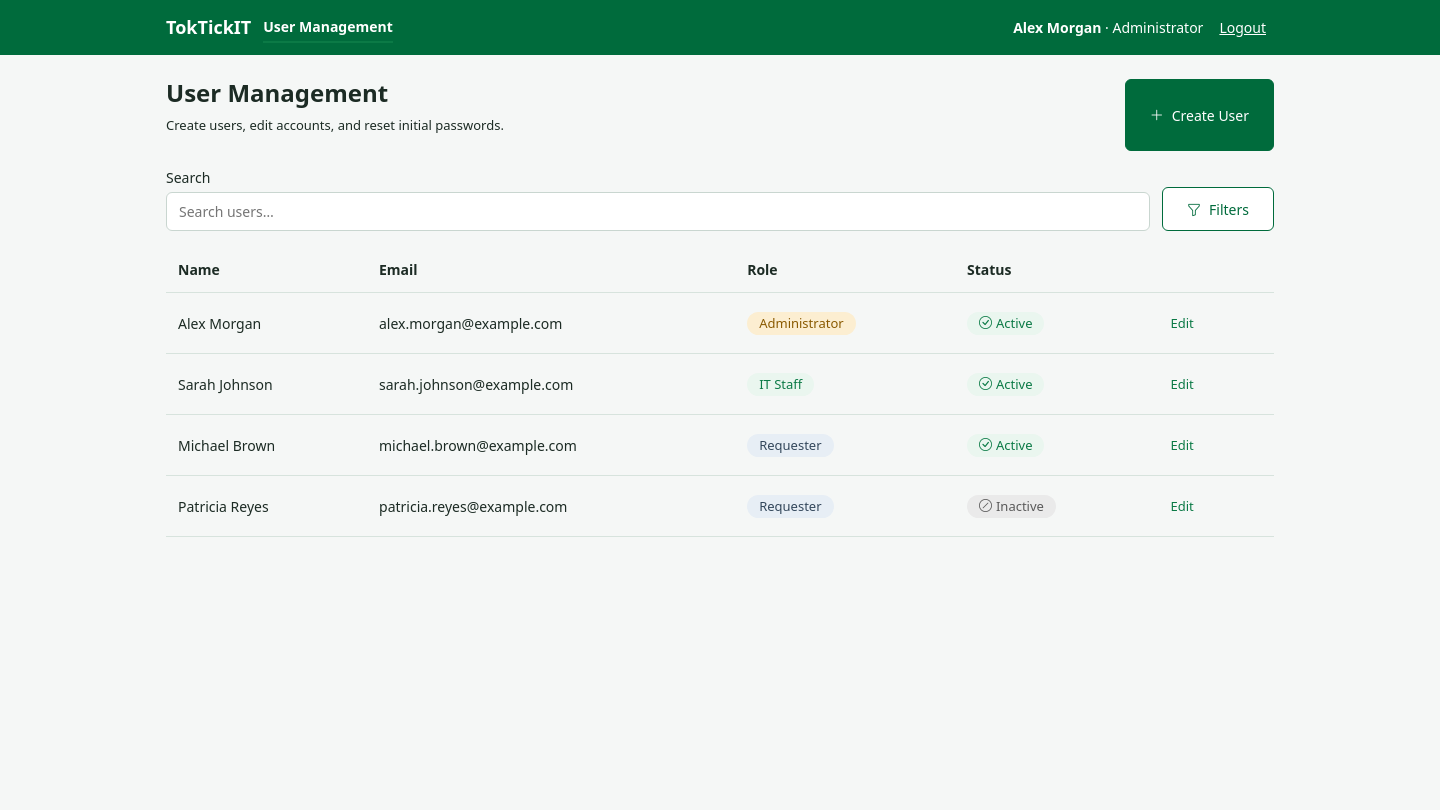
Test: search and role filter (AC-28, BR-38) › filters by role and shows a removable chip
Click the button "Filters" at (1218, 209), box [1162, 187, 1274, 231]
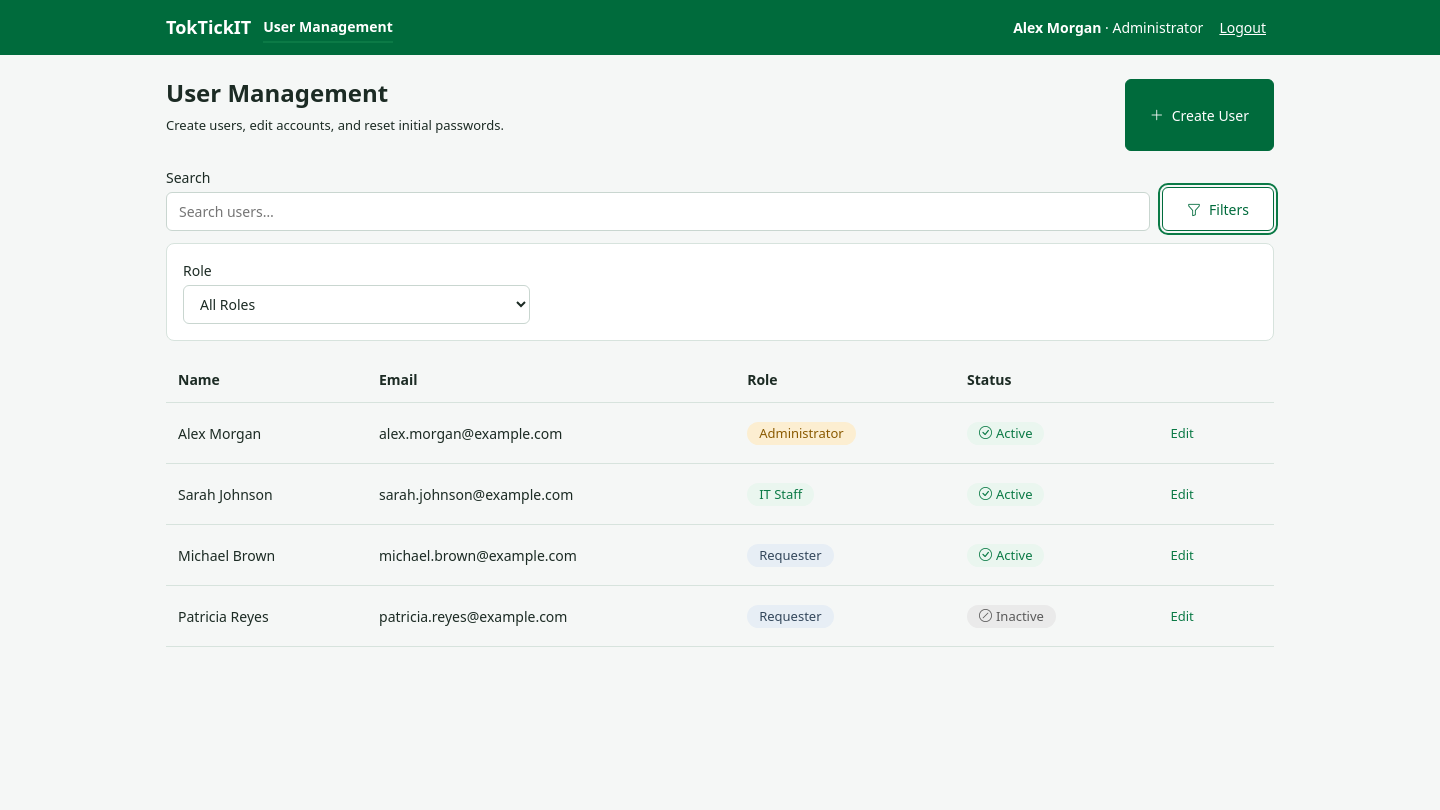
Select "Requester" in the dropdown labelled "Role" at (357, 305), box [183, 285, 530, 324]
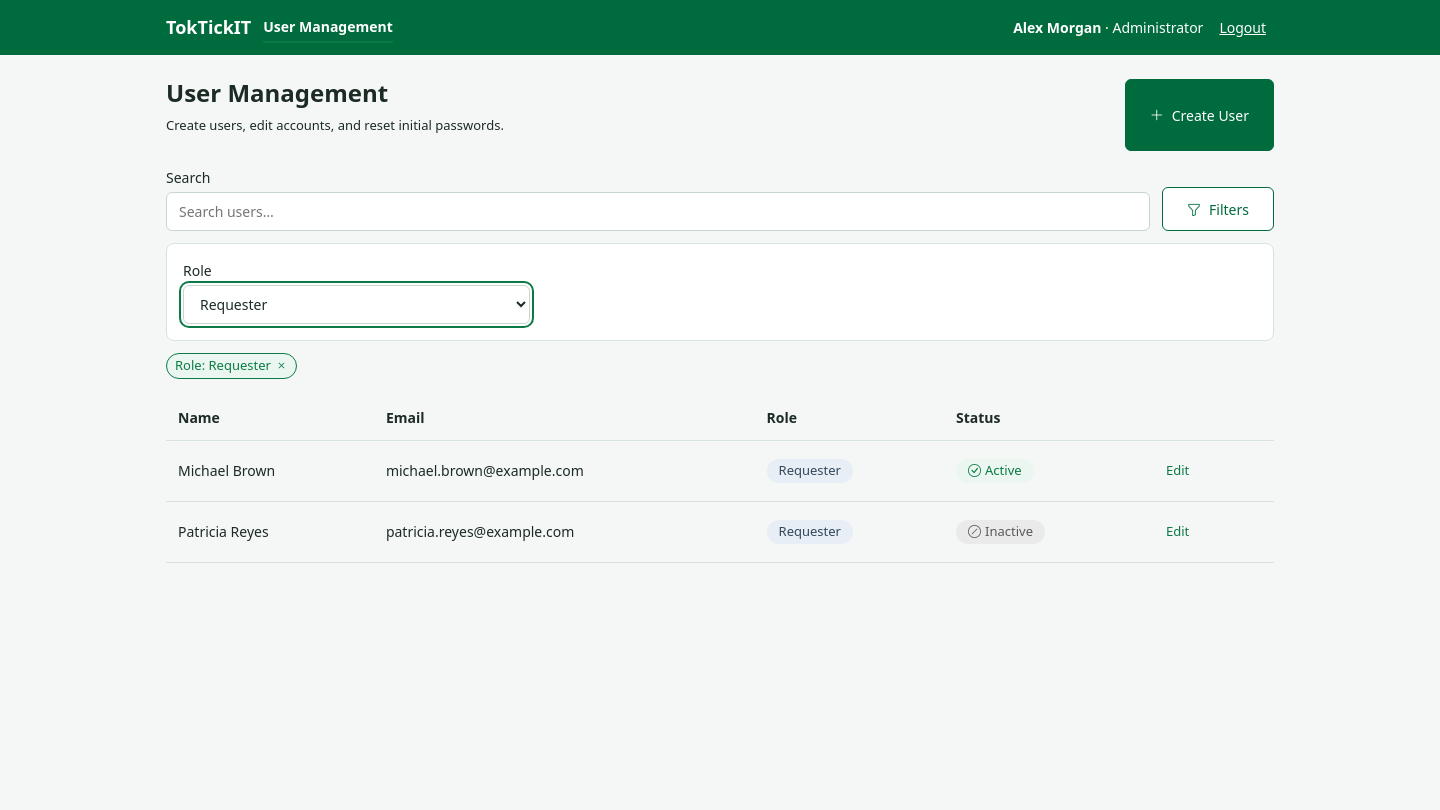
Expected: the text "Patricia Reyes" is shown, [166, 501, 374, 562]
Now the text "Sarah Johnson" is gone
Click the button named "Remove filter: Role: Requester" at (281, 366), box [275, 356, 288, 376]
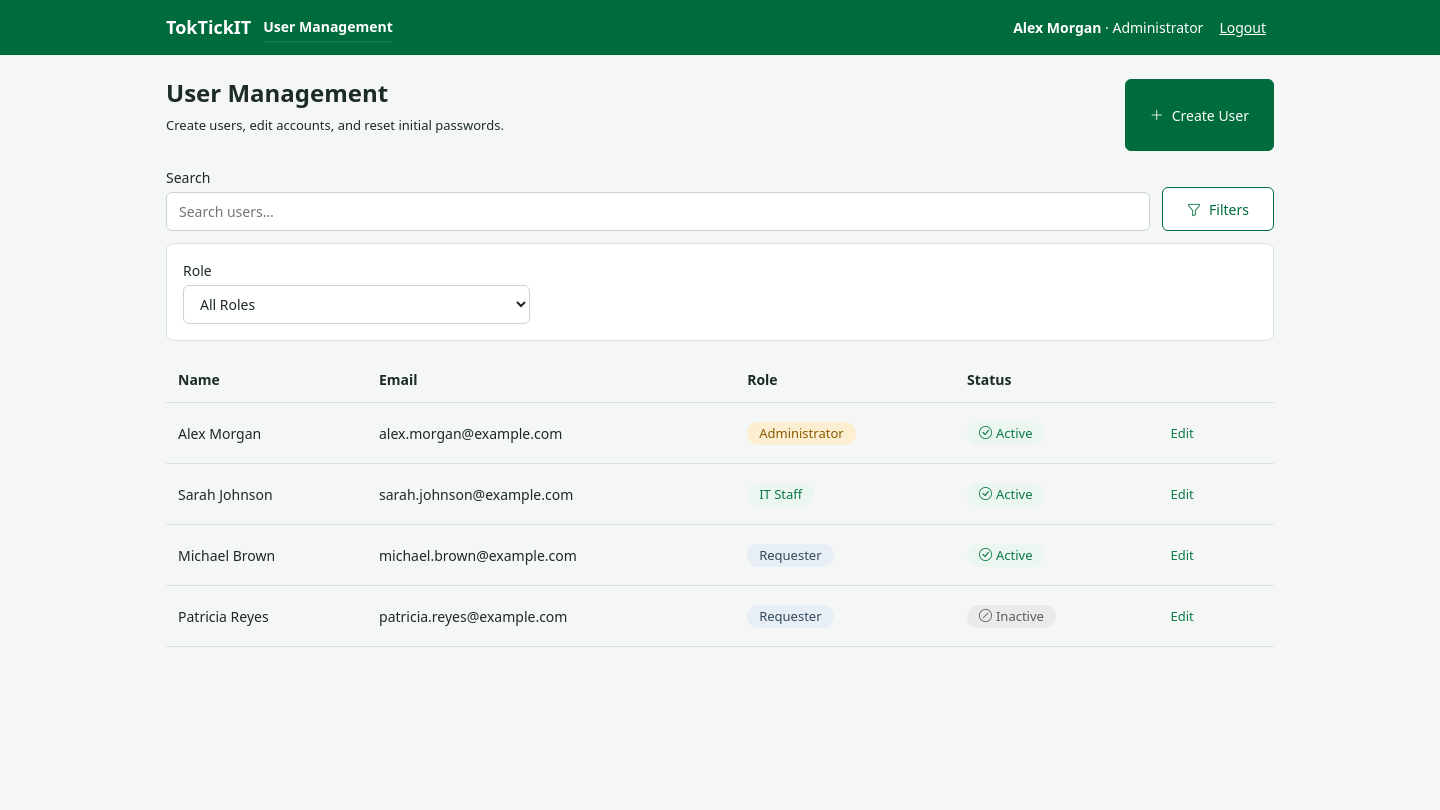
Now the text "Sarah Johnson" is shown, box [166, 464, 367, 525]
